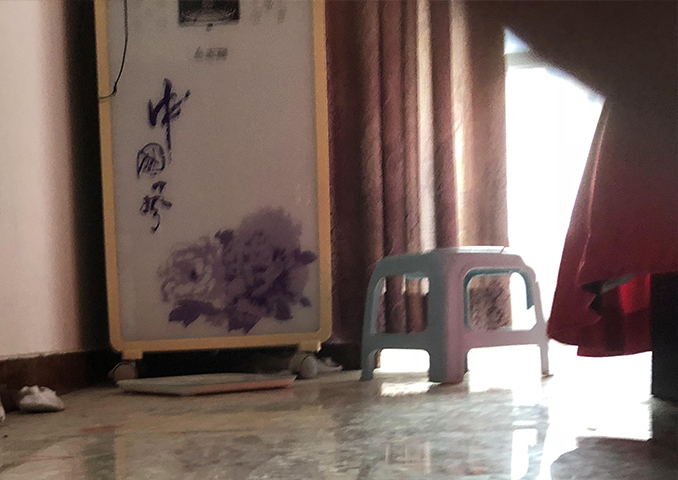curtain: (325, 1, 513, 347)
stool: (358, 248, 545, 387)
